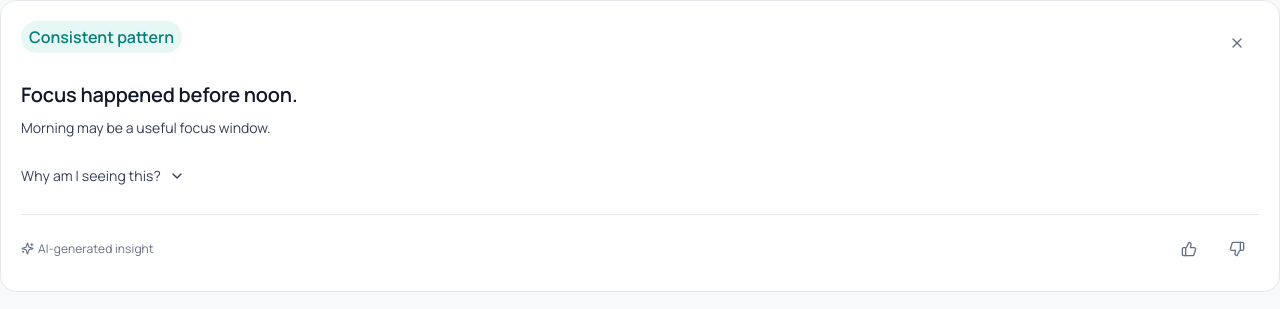
Test: InsightCard › acknowledges feedback without removing the card
Click the button named "Helpful".
click(1189, 249)  # box top-left (1167, 227), bottom-right (1211, 271)
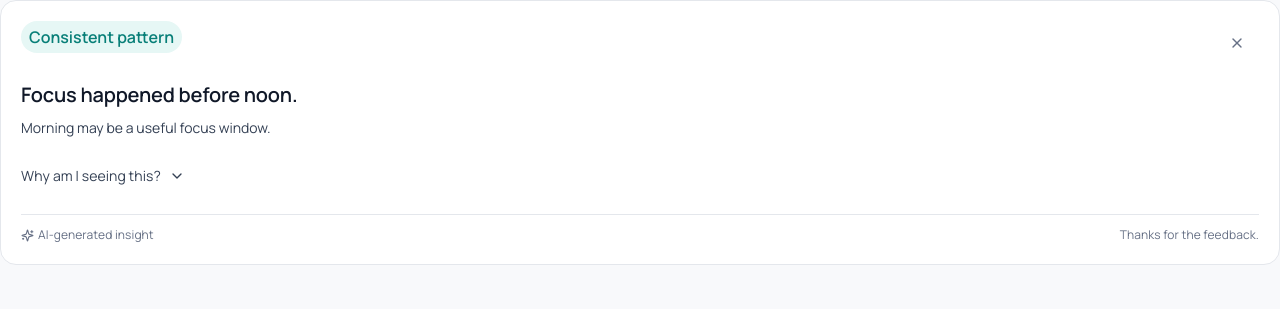
Result: the text "Thanks for the feedback." is shown at top-left (1120, 227), bottom-right (1259, 244)
